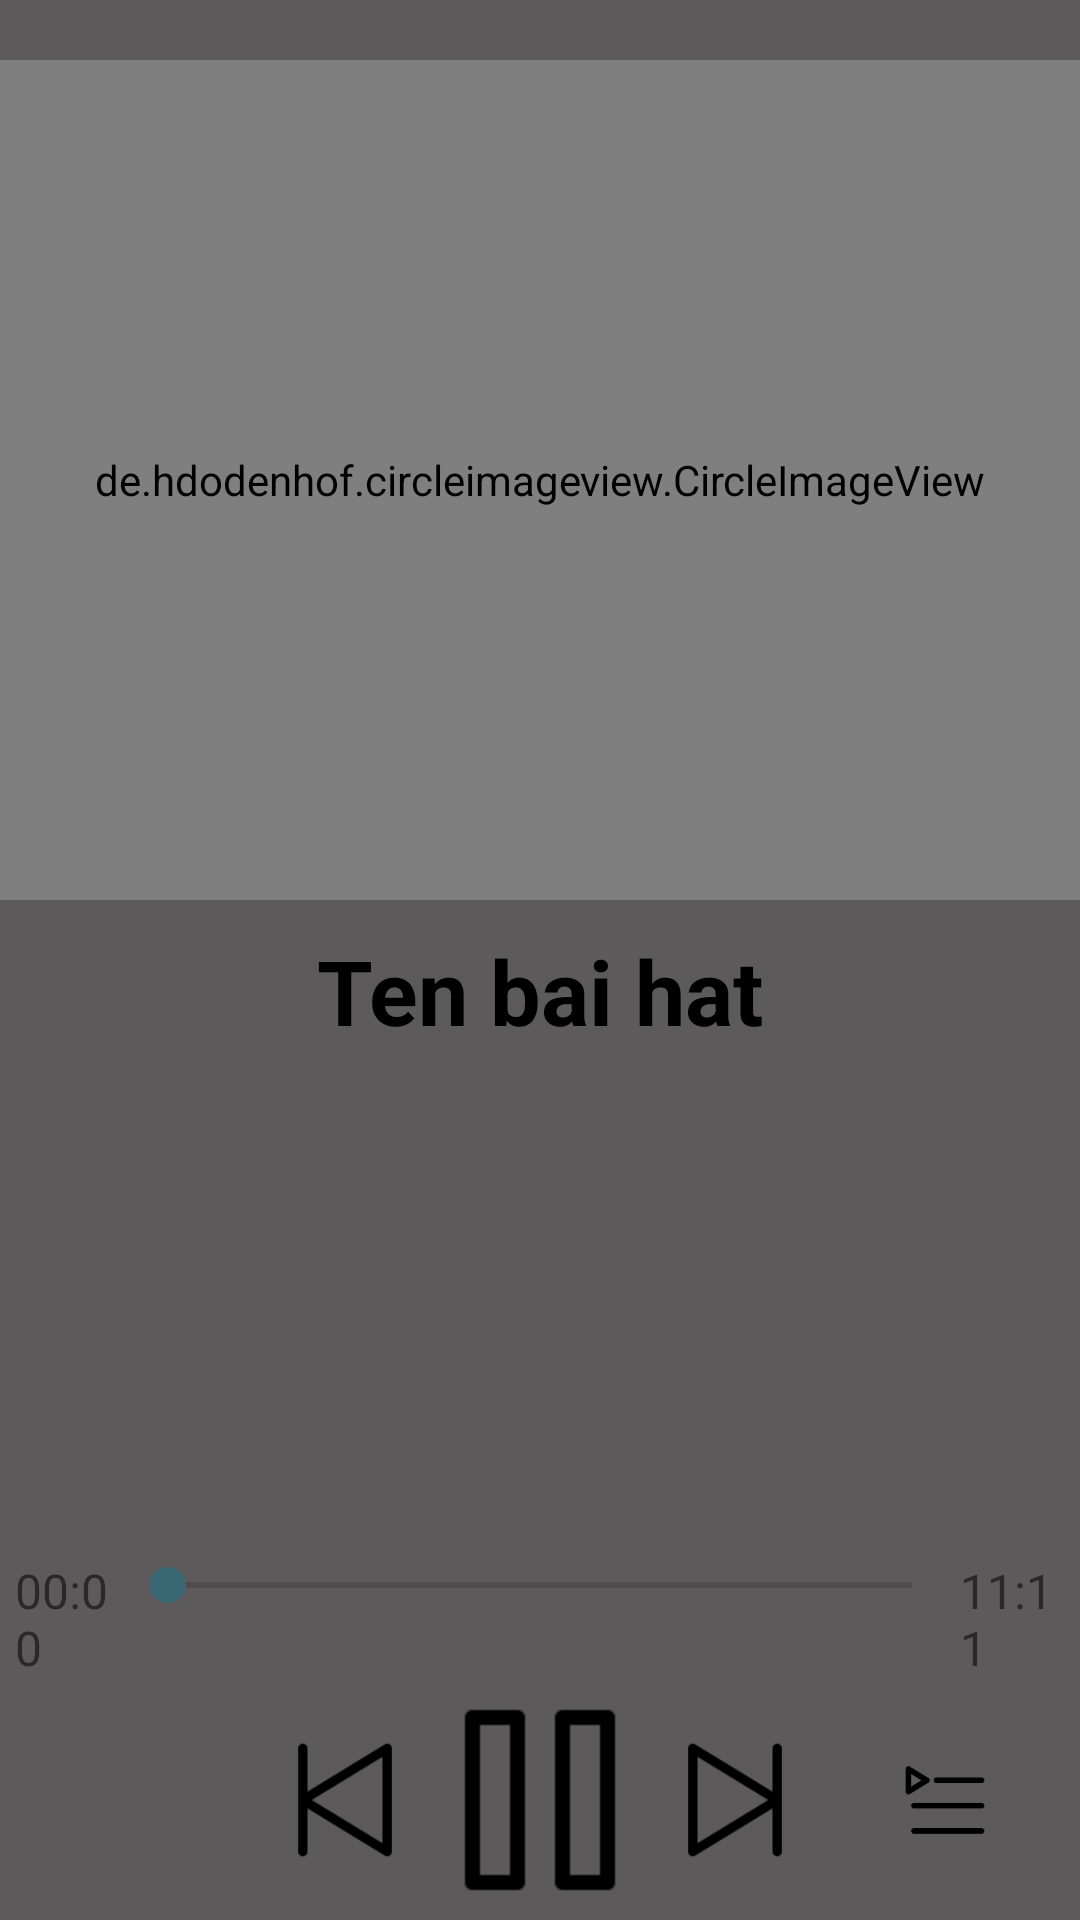

Screen size 1080*1920. Icon name, then its box in pixels as box=[x1, y1, x2, y2]:
back: box=[298, 1743, 392, 1857]
next: box=[688, 1743, 782, 1857]
pause: box=[465, 1710, 615, 1890]
playlist: box=[905, 1766, 985, 1834]
